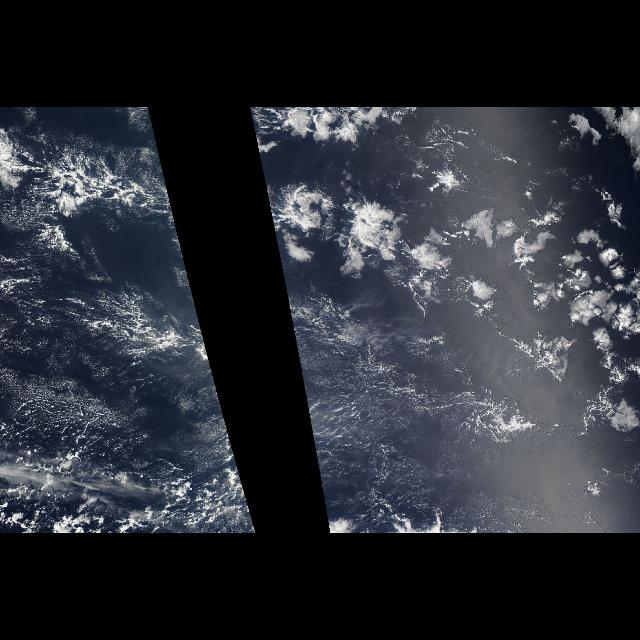Flower: (264, 158, 640, 438)
Sugar: (5, 211, 254, 514), (281, 260, 477, 514)
